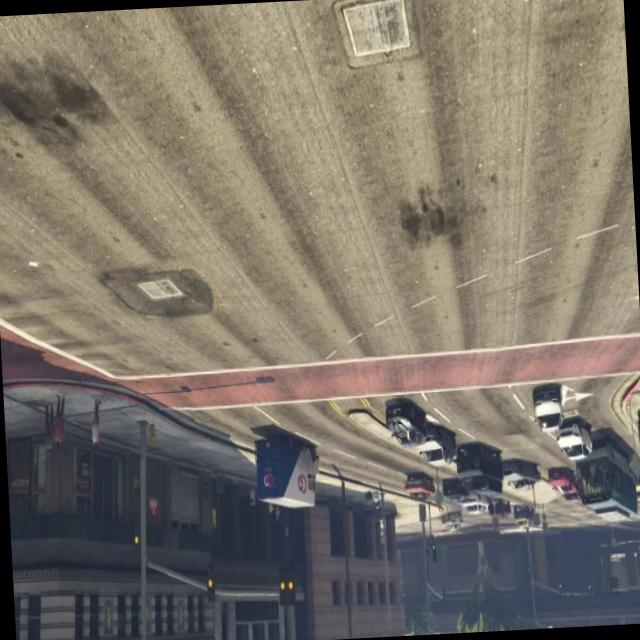Yellow-Signal: (270, 548, 300, 616), (200, 558, 223, 608), (126, 516, 145, 574)
